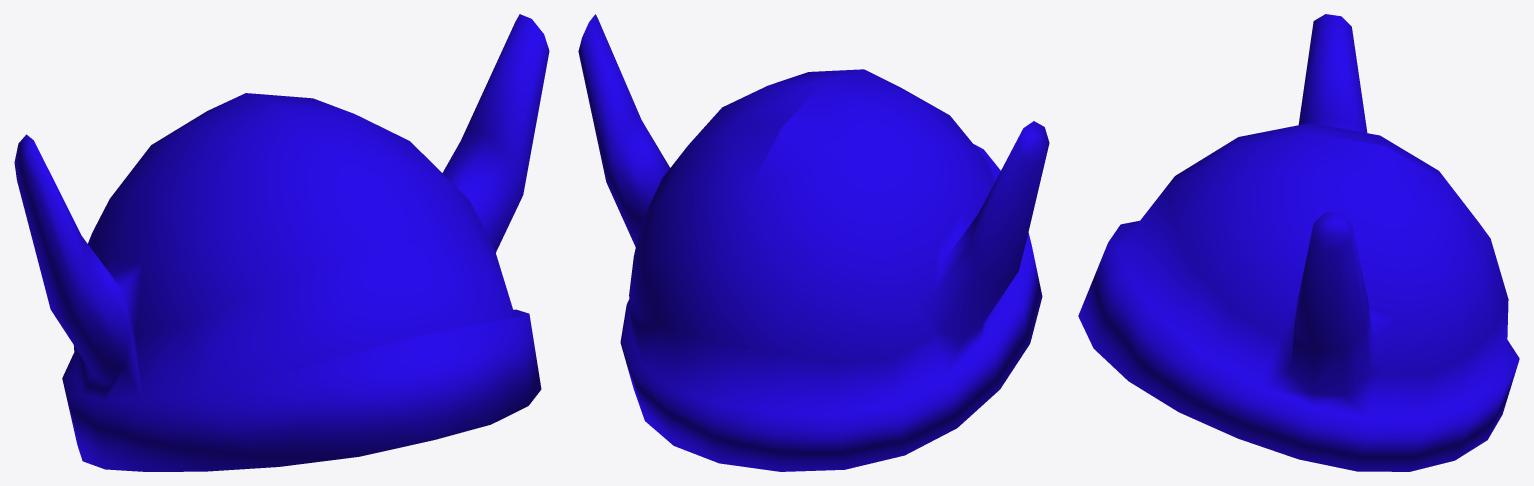
Rendered from GallicHelmet.fbx.
3 views of the same model, side by side, from view 1: azimuth 30°, elevation 25°; view 2: azimuth 150°, elevation 25°; view 3: azimuth 270°, elevation 25° (orthographic). The views are drawn at different scales.
Visible parts, largest first — view 1: GallicHelmet; view 2: GallicHelmet; view 3: GallicHelmet.
Boxes of the visible parts, box(x1,y1,x2,y2) form: GallicHelmet: box(14, 14, 549, 471); GallicHelmet: box(578, 14, 1049, 471); GallicHelmet: box(1078, 14, 1519, 471).
Size of the model in its own units: 84.66 by 57.79 by 76.32.
